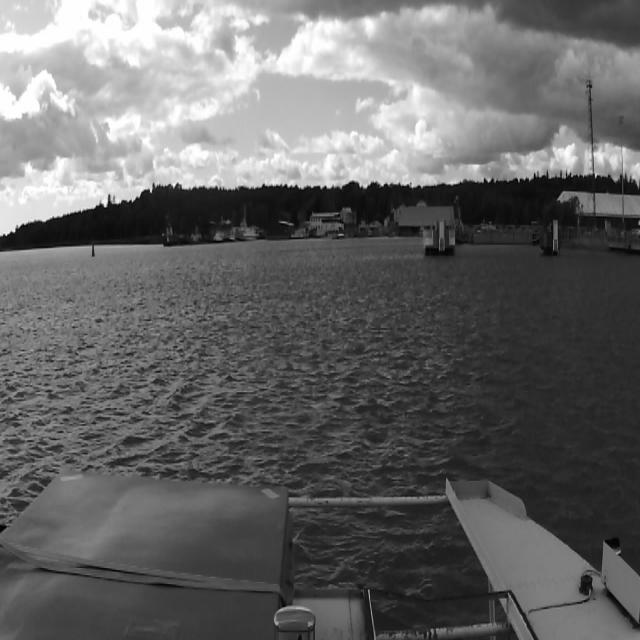buoy: (91, 243, 95, 257)
